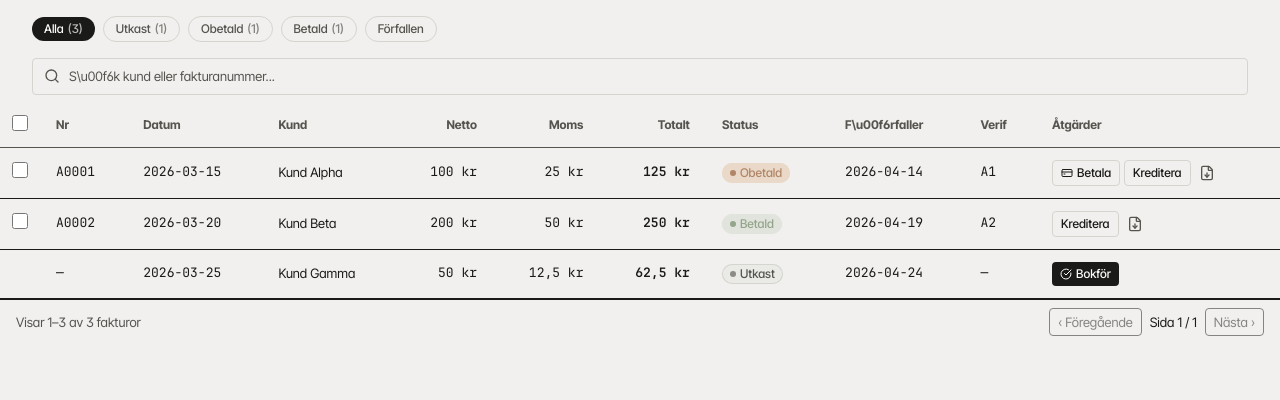
Scenario: InvoiceList PDF features › P6: "Bulk-betala" shows only when all selected are payable
Expected: the text "Kund Alpha" is shown, left=262, top=147, right=396, bottom=198
Note: Select header checkbox (selects all non-draft: unpaid + paid)
Step 1. Click the checkbox next to "Nr" → (20, 123), box left=12, top=115, right=28, bottom=131
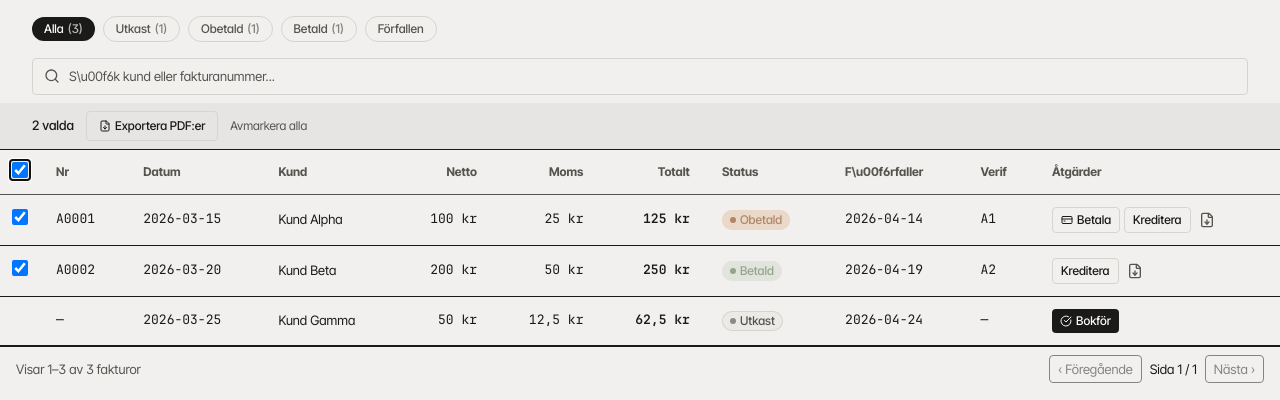
Expected: the button "Exportera PDF:er" is shown, left=86, top=111, right=218, bottom=141
